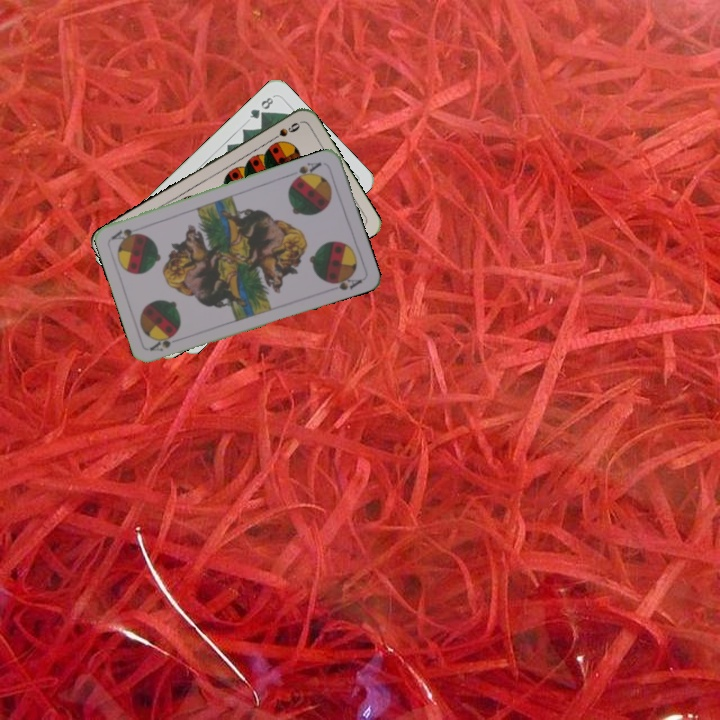G8: (245, 93, 276, 122)
S9: (266, 118, 303, 144)
SA: (146, 329, 185, 354), (289, 158, 324, 184)
